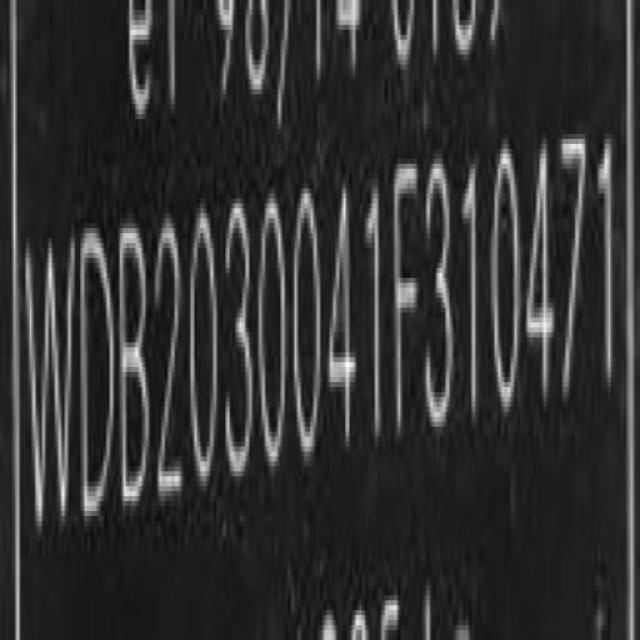0: (258, 190, 289, 478), (190, 205, 220, 501), (492, 140, 522, 427), (294, 182, 323, 471)
1: (365, 166, 384, 461), (600, 124, 619, 409), (464, 157, 482, 444)
2: (153, 213, 184, 510)
3: (425, 160, 456, 448), (226, 202, 253, 490)
4: (329, 177, 361, 467), (525, 135, 557, 424)
7: (560, 123, 590, 415)
B: (119, 217, 152, 518)
D: (80, 229, 117, 529)
F: (392, 154, 420, 443)
W: (28, 234, 73, 544)
